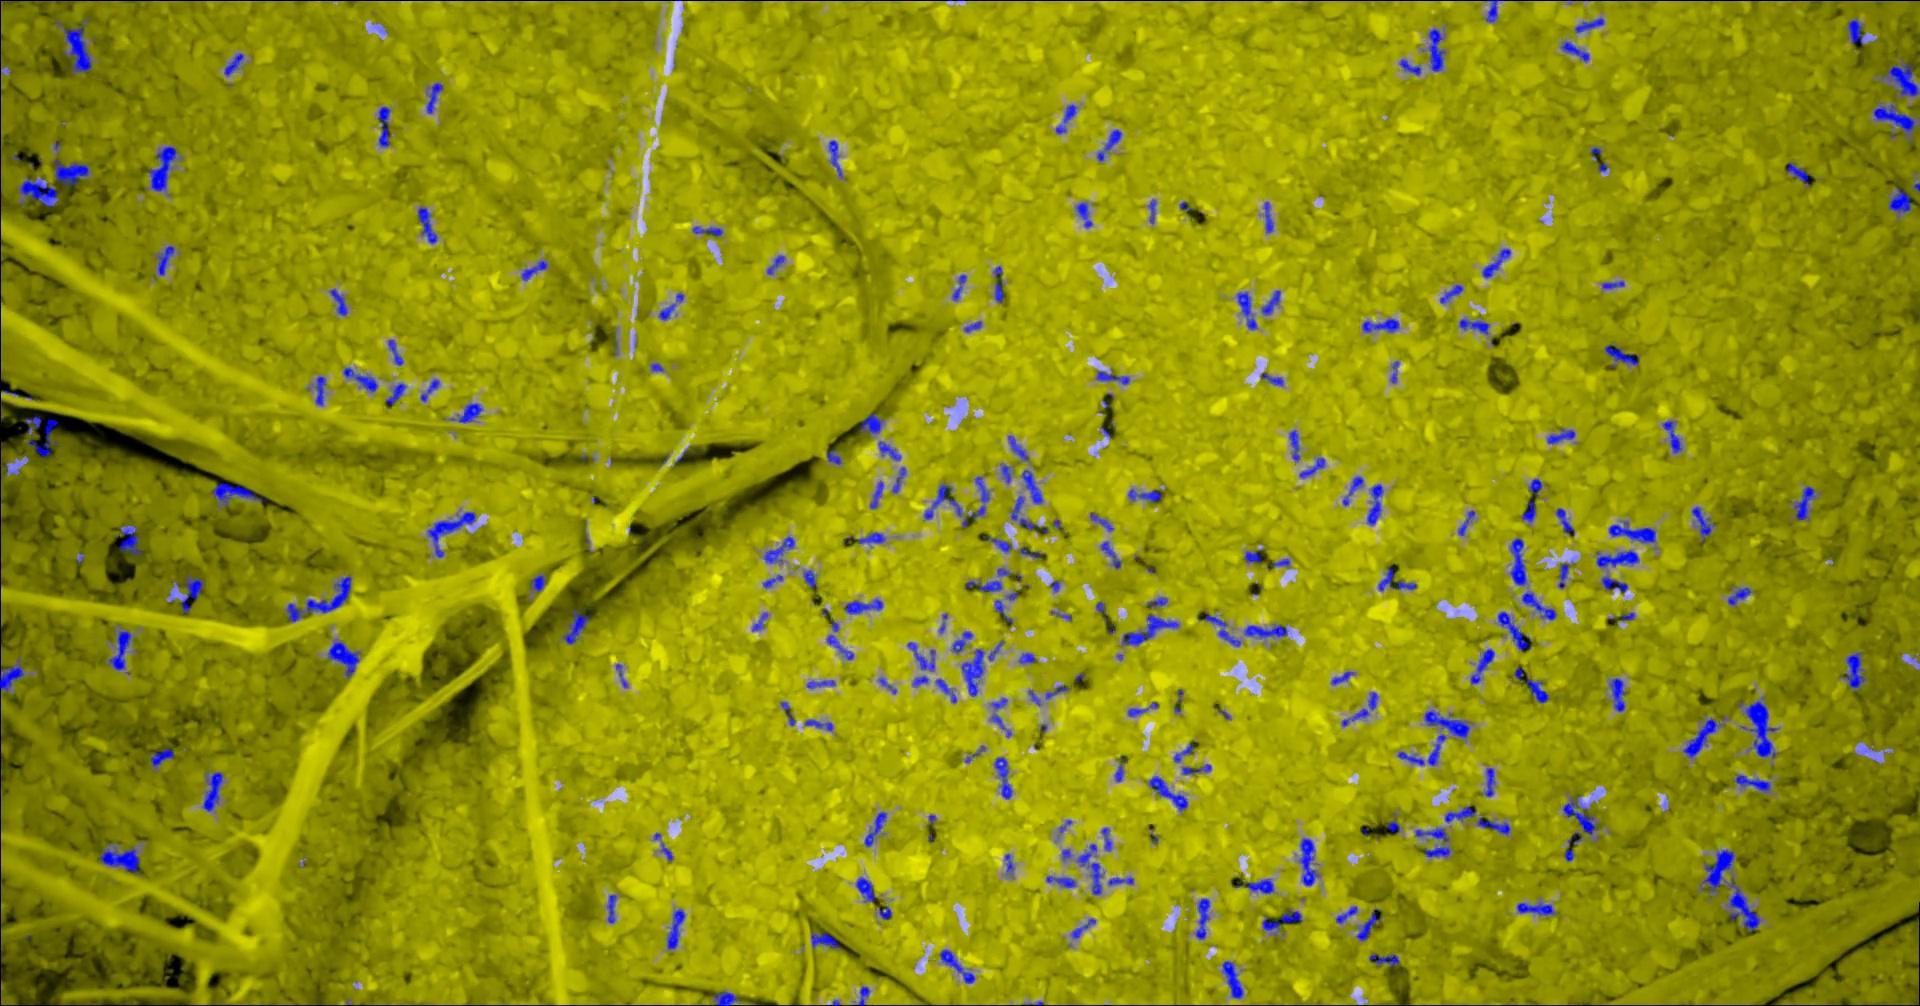ant: (287, 575, 353, 621), (429, 511, 477, 558), (1742, 700, 1779, 758), (57, 17, 93, 72), (1123, 614, 1180, 644), (1399, 733, 1448, 765), (1684, 718, 1722, 757), (1201, 611, 1242, 647), (963, 476, 990, 527), (1012, 495, 1049, 533), (25, 415, 60, 456), (924, 484, 963, 520), (1150, 775, 1189, 810), (1498, 611, 1533, 650), (213, 481, 268, 506), (1515, 666, 1550, 702), (149, 146, 178, 191), (1425, 710, 1470, 738), (1343, 691, 1379, 727), (1564, 796, 1597, 835), (329, 639, 361, 678), (1876, 104, 1916, 135), (1079, 843, 1103, 894), (1884, 62, 1920, 97), (941, 949, 977, 983), (102, 842, 141, 873), (20, 177, 58, 206), (963, 648, 985, 696), (1610, 521, 1657, 542), (564, 607, 590, 644), (1379, 565, 1418, 589), (55, 159, 90, 185), (1523, 592, 1558, 619), (182, 573, 204, 614), (1302, 837, 1321, 885), (1523, 478, 1543, 522), (110, 630, 133, 669), (1483, 248, 1512, 278), (1693, 506, 1717, 541), (1472, 648, 1496, 683), (1223, 960, 1244, 998), (764, 536, 796, 561), (204, 771, 225, 810), (1263, 909, 1303, 930), (996, 756, 1015, 798), (345, 367, 378, 391), (1, 658, 25, 691), (909, 641, 936, 671), (1511, 539, 1528, 586), (1238, 291, 1258, 329), (1429, 28, 1446, 71), (866, 810, 888, 846), (1098, 130, 1123, 161), (1357, 908, 1382, 940), (1846, 652, 1867, 688), (119, 525, 143, 555), (419, 207, 439, 243), (1368, 484, 1385, 525), (668, 908, 686, 949), (1597, 550, 1641, 567), (1606, 344, 1641, 365), (1023, 469, 1044, 503), (1796, 485, 1816, 520), (828, 634, 855, 659), (1736, 774, 1771, 793), (1057, 104, 1078, 133), (1343, 476, 1365, 506), (1479, 815, 1512, 835), (1244, 624, 1289, 638), (1663, 420, 1683, 452), (1562, 41, 1591, 61), (1890, 187, 1912, 212), (453, 403, 484, 422), (846, 598, 884, 614), (1564, 831, 1583, 861), (378, 105, 392, 146), (1197, 898, 1211, 939), (1788, 163, 1812, 185), (159, 245, 177, 276), (1102, 541, 1123, 568), (1446, 804, 1477, 822), (1363, 318, 1401, 332), (1611, 677, 1627, 711), (1010, 434, 1030, 460), (1300, 457, 1326, 478), (830, 140, 844, 177), (428, 83, 444, 113), (1460, 318, 1491, 334), (937, 678, 957, 702), (993, 713, 1013, 737), (857, 876, 877, 901), (523, 260, 549, 279), (1557, 508, 1576, 533), (1129, 701, 1161, 716), (1517, 902, 1556, 915), (1072, 918, 1097, 937), (811, 931, 841, 948), (1416, 827, 1450, 841), (1849, 18, 1867, 44), (1077, 201, 1095, 227), (331, 288, 349, 315), (952, 631, 974, 653), (861, 413, 884, 433), (1244, 878, 1275, 893), (1098, 370, 1131, 384), (1548, 427, 1576, 443), (1441, 285, 1465, 304), (1263, 290, 1283, 314), (1091, 512, 1115, 531), (1129, 489, 1164, 502), (1576, 17, 1605, 32), (1603, 575, 1629, 592), (225, 53, 245, 75), (1175, 742, 1196, 762), (422, 379, 441, 401), (996, 600, 1015, 622), (152, 748, 175, 767), (389, 339, 405, 365), (387, 384, 408, 404), (880, 441, 902, 460), (1337, 904, 1359, 923), (1483, 767, 1497, 796), (1370, 953, 1399, 967), (985, 536, 1012, 551), (1730, 587, 1752, 605), (1459, 511, 1476, 535), (871, 480, 885, 508), (714, 991, 742, 1005), (1487, 0, 1505, 22), (968, 580, 1004, 591), (954, 274, 968, 300), (893, 467, 907, 493), (768, 255, 786, 274), (782, 701, 796, 725), (1290, 431, 1302, 460), (1048, 875, 1077, 887), (1401, 58, 1422, 74), (996, 265, 1004, 302), (1265, 201, 1275, 232), (1048, 685, 1070, 699), (806, 719, 834, 730), (753, 612, 770, 631), (695, 226, 724, 236), (317, 376, 328, 405), (858, 532, 888, 542), (1183, 763, 1213, 774), (1262, 372, 1285, 385), (1, 448, 9, 486), (1332, 671, 1355, 683), (660, 304, 677, 320), (1425, 846, 1451, 856), (1021, 546, 1044, 558), (808, 680, 837, 688), (610, 894, 618, 923), (1559, 563, 1570, 588), (532, 574, 547, 591), (1246, 549, 1263, 563), (1148, 596, 1170, 607), (764, 574, 783, 587), (858, 986, 871, 1005), (1116, 754, 1125, 781), (1109, 876, 1135, 885), (828, 448, 843, 464), (805, 570, 818, 588), (1388, 815, 1401, 833), (1103, 827, 1112, 851), (1603, 279, 1625, 288), (965, 320, 983, 332), (1020, 652, 1037, 663), (880, 904, 893, 920), (1, 0, 76, 3), (1149, 199, 1157, 224), (1002, 464, 1012, 481), (1006, 854, 1015, 874), (1392, 359, 1399, 382), (914, 674, 930, 686)
